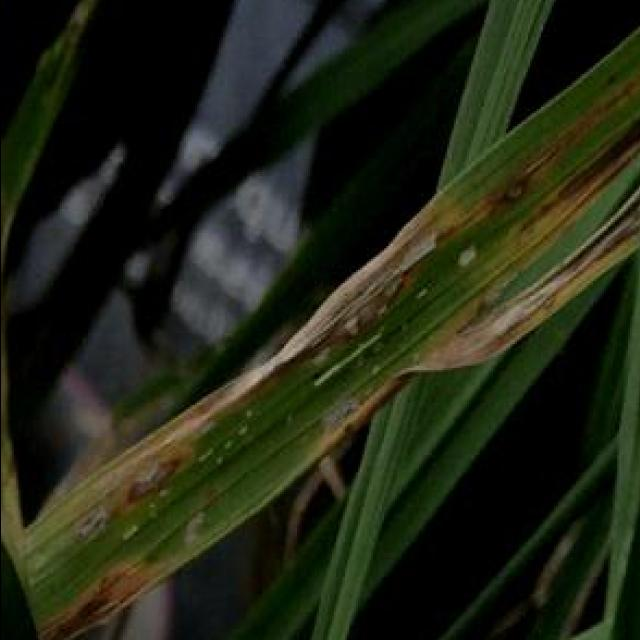Leaf_Blast: (126, 442, 187, 522), (78, 498, 120, 562)
